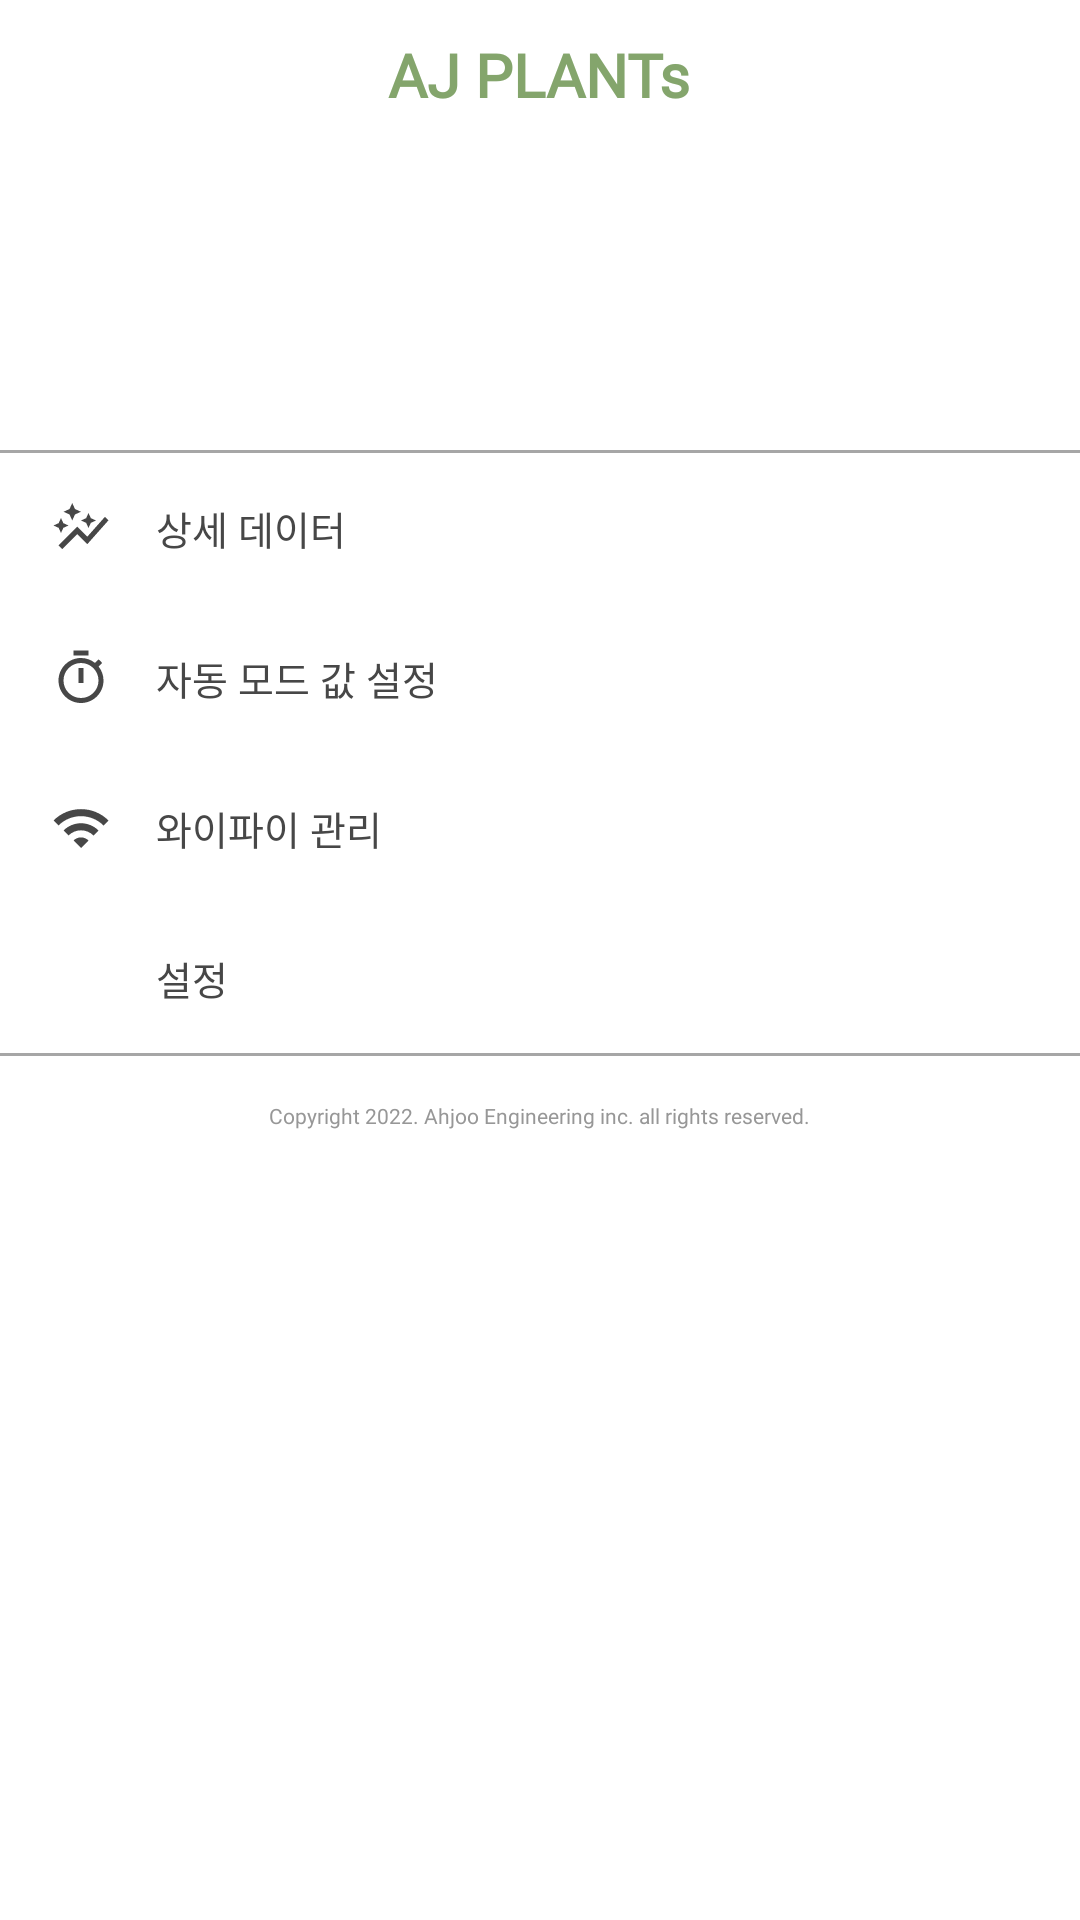

Icon bounding boxes for this 1080×1920 phone screenshot, format Rect(x1, y1, x2, y2):
wifi: Rect(54, 809, 109, 848)
